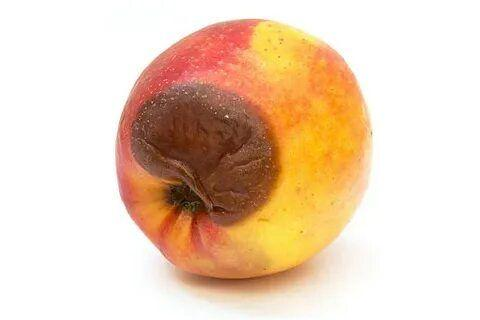Apple: (117, 20, 375, 282)
